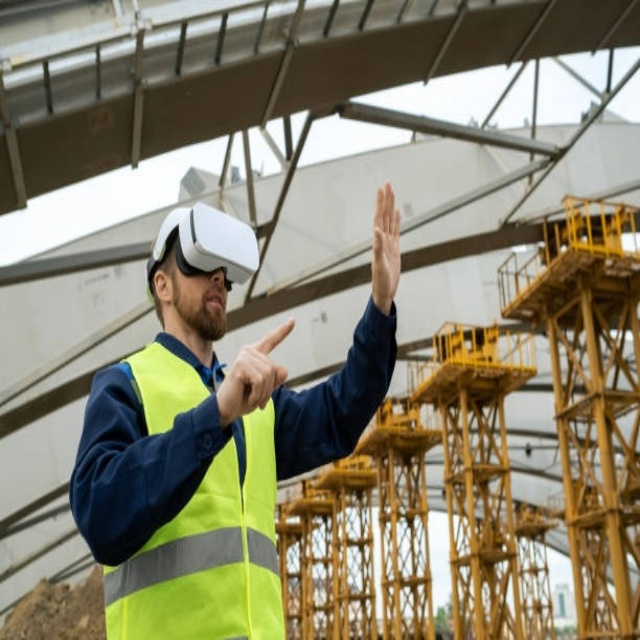Sin_guantes: (221, 318, 296, 422), (370, 180, 402, 305)
Sin_mascara: (201, 285, 227, 333)
